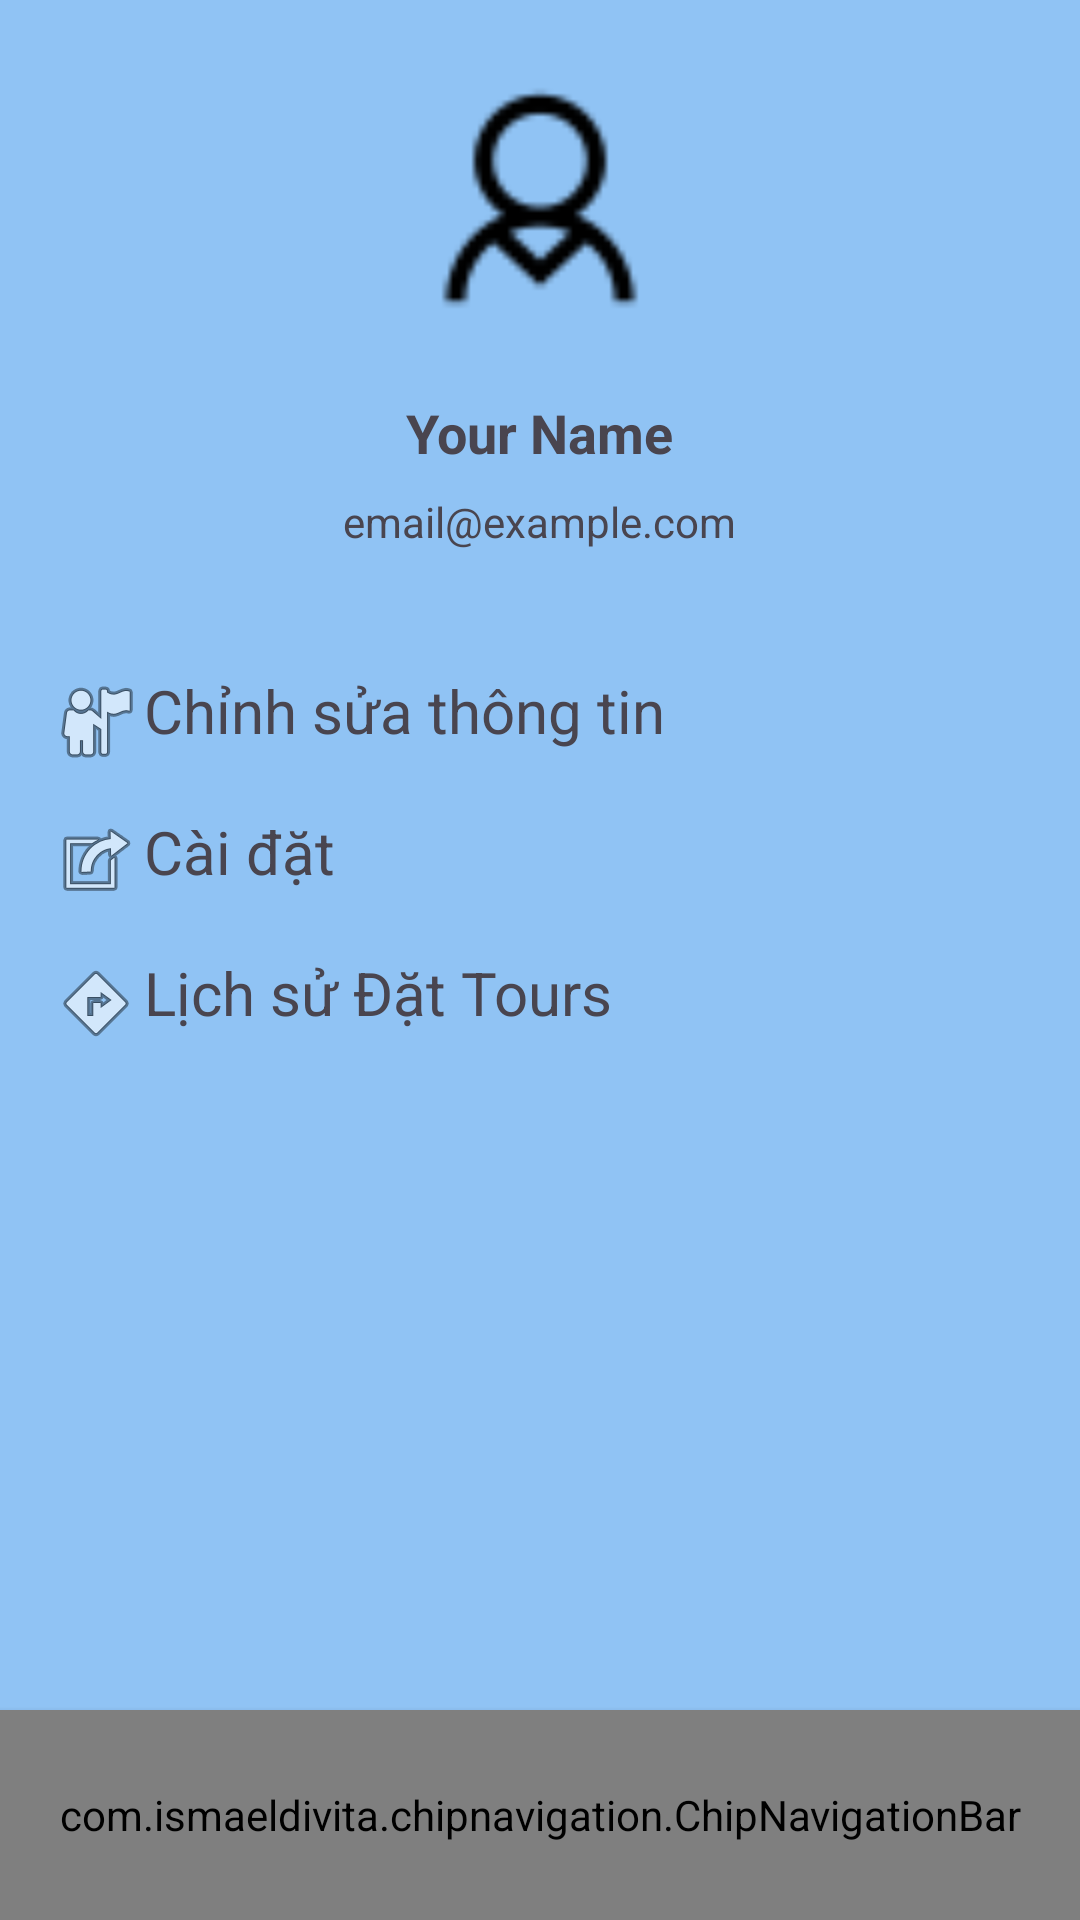

Named icons in this screenshot (1080 × 1920) and their centers, point (x, y):
Profile Picture: point (540, 198)
